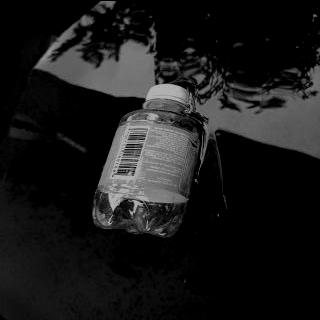bottle: (88, 82, 206, 240)
